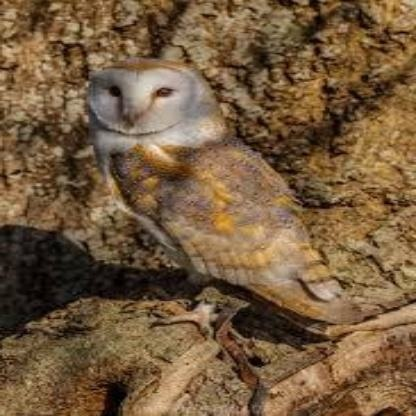Owl: (89, 61, 356, 334)
